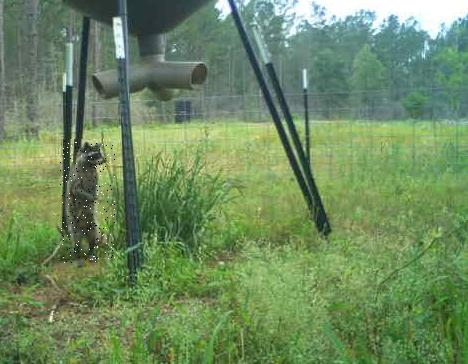Raccoon: (61, 140, 116, 265)
